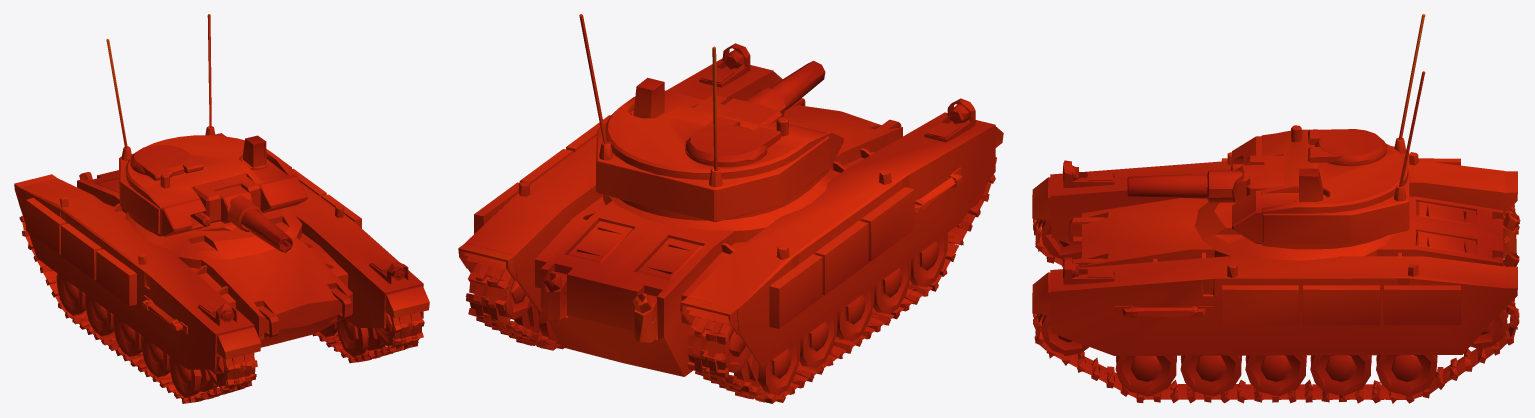
The model's file is WbLightTankLowpoly.fbx.
3 renders of one model, left to right at view 1: azimuth 30°, elevation 25°; view 2: azimuth 150°, elevation 25°; view 3: azimuth 270°, elevation 25°, orthographic. The views are drawn at different scales.
Parts seen in each view (by area): view 1: Body.004, TurretMain, BarrelCannon.005, Wheel.022, Wheel.034, Wheel.030, Wheel.031, Wheel.032, Wheel.033, WheelFixed.009; view 2: Body.004, TurretMain, BarrelCannon.005, Wheel.030, Wheel.031, Wheel.032, Wheel.033, Wheel.034, WheelFixed.010, WheelFixed.011, Wheel.027; view 3: Body.004, TurretMain, BarrelCannon.005, Wheel.025, Wheel.027, Wheel.024, Wheel.026, Wheel.022, WheelFixed.008, WheelFixed.009, WheelFixed.011.
Boxes of the visible parts, box(x1,y1,x2,y2) form: Body.004: box(14, 133, 429, 403); TurretMain: box(106, 14, 307, 237); BarrelCannon.005: box(215, 185, 292, 252); Wheel.022: box(336, 319, 385, 357); Wheel.034: box(169, 357, 217, 397); Wheel.030: box(56, 273, 85, 315); Wheel.031: box(85, 294, 114, 336); Wheel.032: box(113, 315, 142, 356); Wheel.033: box(141, 336, 170, 377); WheelFixed.009: box(207, 353, 227, 386); Body.004: box(458, 43, 1003, 403); TurretMain: box(579, 14, 843, 221); BarrelCannon.005: box(724, 60, 825, 117); Wheel.030: box(734, 340, 800, 395); Wheel.031: box(799, 313, 837, 368); Wheel.032: box(836, 286, 874, 341); Wheel.033: box(873, 260, 910, 314); Wheel.034: box(910, 233, 947, 287); WheelFixed.010: box(721, 326, 750, 372); WheelFixed.011: box(486, 276, 531, 319); Wheel.027: box(514, 303, 558, 342); Body.004: box(1032, 152, 1520, 403); TurretMain: box(1232, 14, 1425, 249); BarrelCannon.005: box(1127, 165, 1264, 202); Wheel.025: box(1245, 355, 1306, 396); Wheel.027: box(1376, 355, 1437, 396); Wheel.024: box(1180, 355, 1241, 396); Wheel.026: box(1310, 355, 1371, 395); Wheel.022: box(1115, 355, 1176, 396); WheelFixed.008: box(1041, 314, 1088, 355); WheelFixed.009: box(1041, 219, 1081, 259); WheelFixed.011: box(1470, 308, 1508, 348).
Size of the model in its own units: 0.5266 by 0.5739 by 0.8268.
